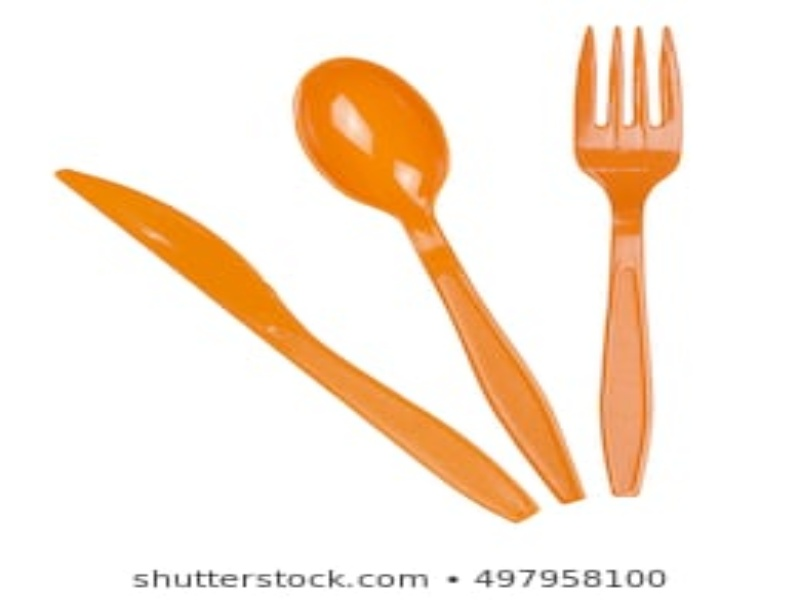plastic-silverware: (51, 168, 539, 525), (292, 56, 587, 505), (575, 25, 686, 500)
